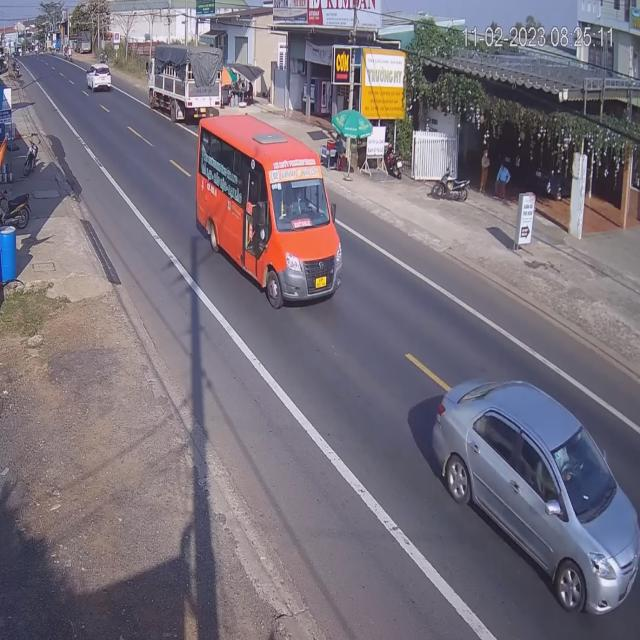bus: (198, 100, 340, 307)
car: (435, 374, 640, 612), (87, 62, 113, 95)
truck: (147, 44, 222, 111)
